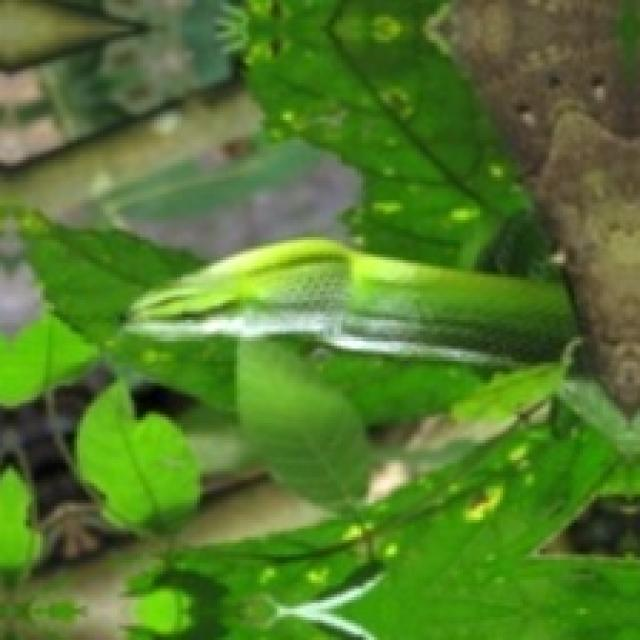red-tailed green ratsnake: (126, 238, 571, 362)
